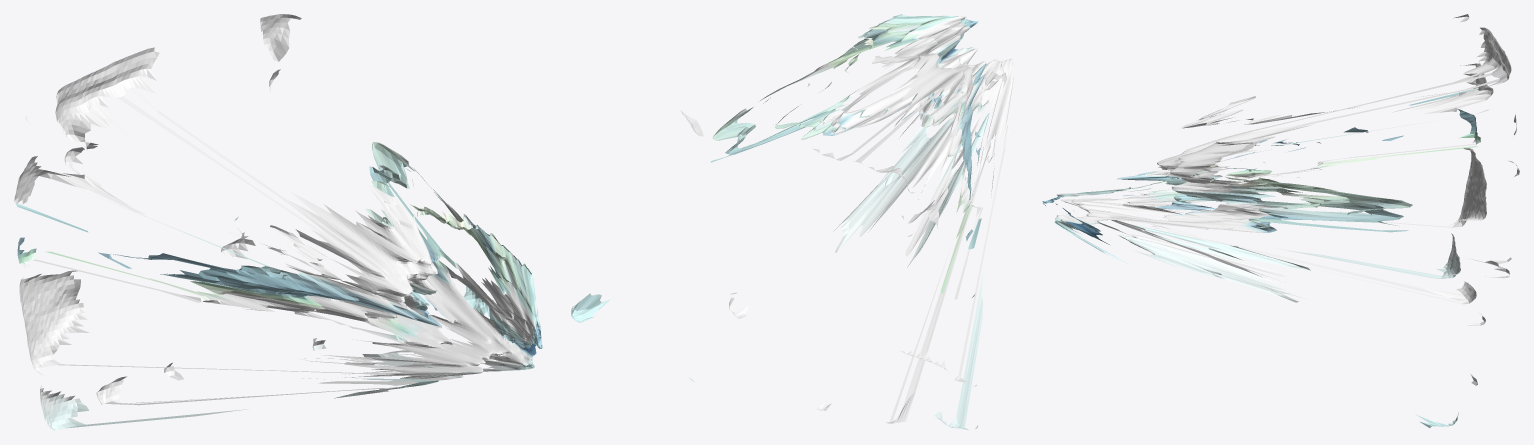
3 views of the same model, side by side, from view 1: azimuth 30°, elevation 25°; view 2: azimuth 150°, elevation 25°; view 3: azimuth 270°, elevation 25° (orthographic). The views are drawn at different scales.
Parts seen in each view (by area): view 1: defaultobject; view 2: defaultobject; view 3: defaultobject.
Boxes of the visible parts, x1,y1,x2,y2 form: defaultobject: [14, 14, 542, 430]; defaultobject: [571, 14, 1013, 430]; defaultobject: [1042, 14, 1519, 427].
Bounding box in the file's own units: 39.36 × 26.73 × 44.02.
Materials: 1 (1 with a texture image).
